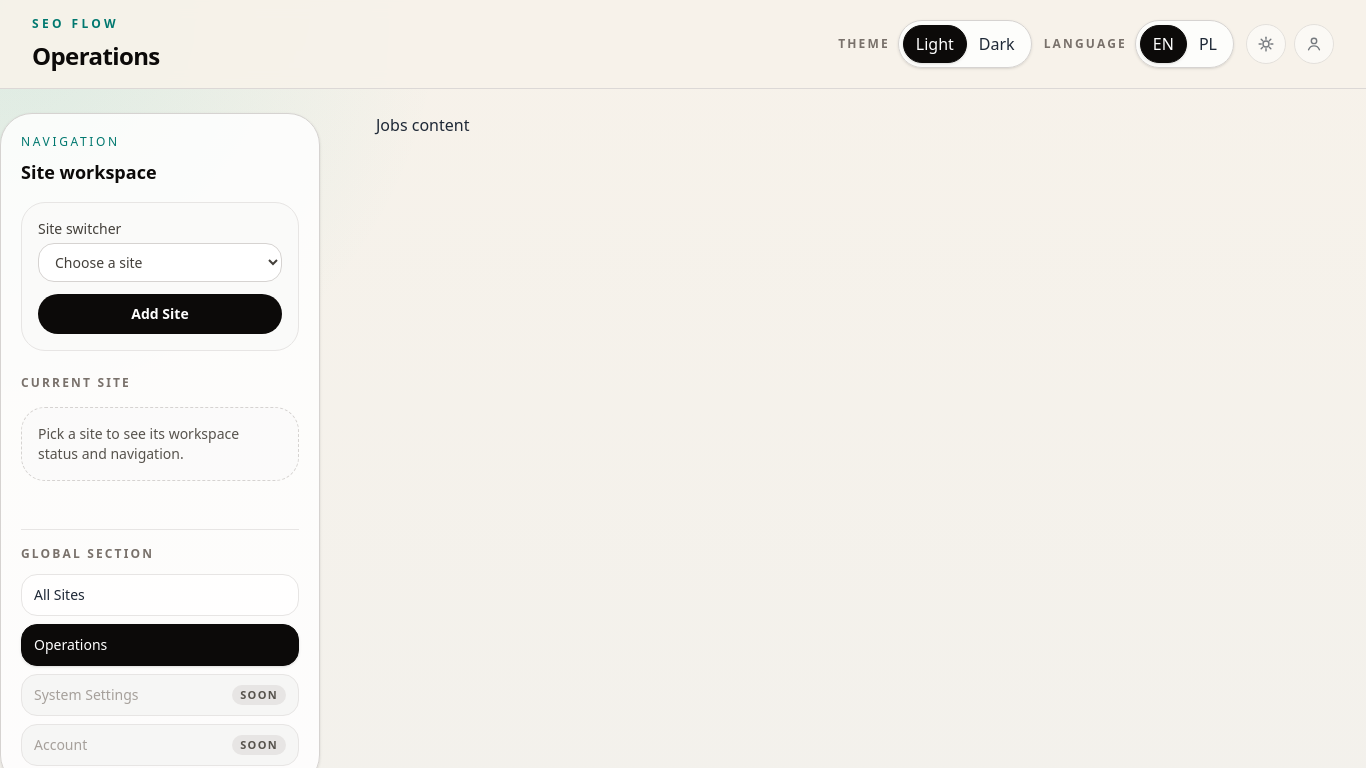
Scenario: AppLayout › switches the shell language to Polish and stores the choice
The width and height of the screenshot is (1366, 768).
Step 1. Click the button with aria-label "Polski" → (1208, 44), box x1=1187 y1=25 x2=1229 y2=63
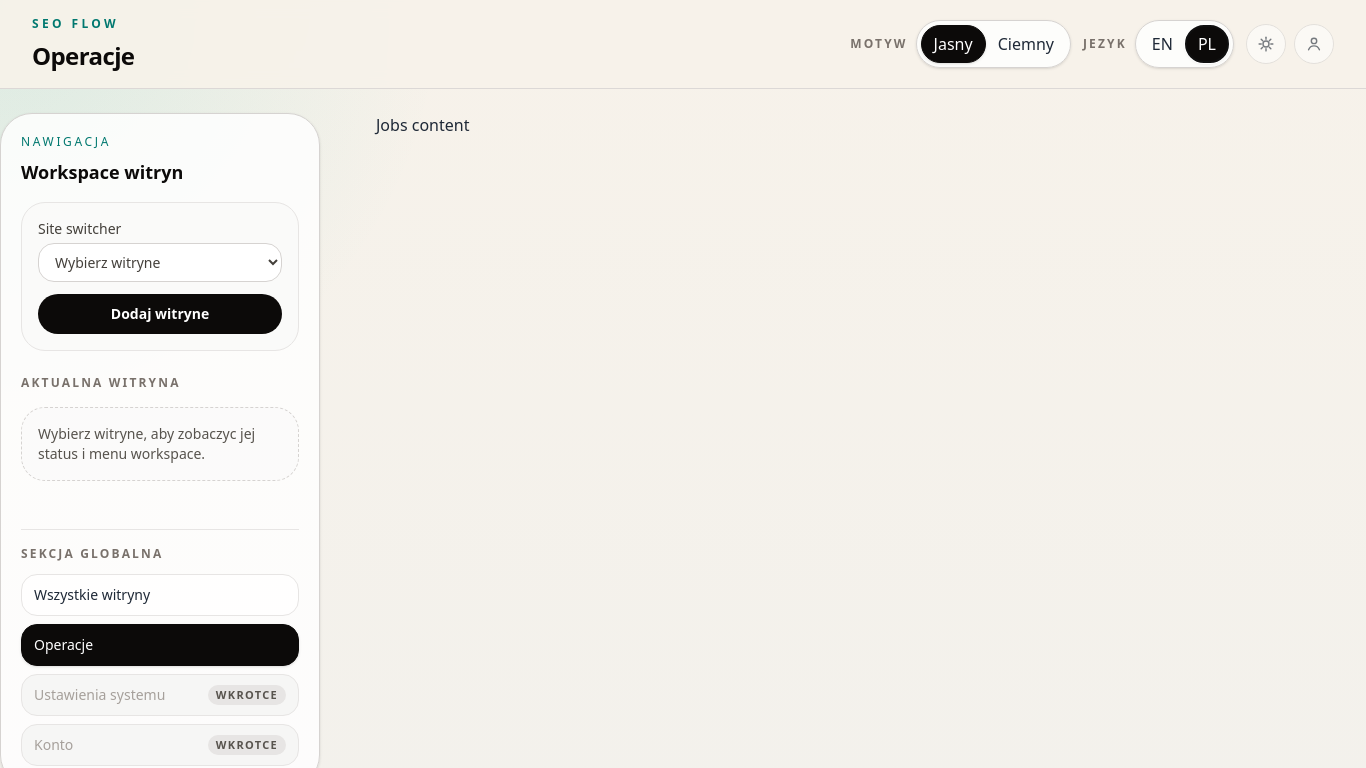
Expected: the heading "Operacje" is shown, x1=32 y1=40 x2=134 y2=72
